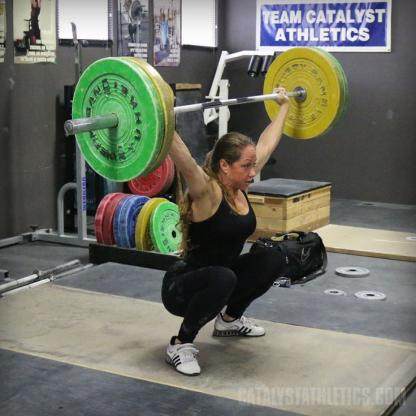barbell: (72, 57, 161, 184), (264, 48, 343, 141)
